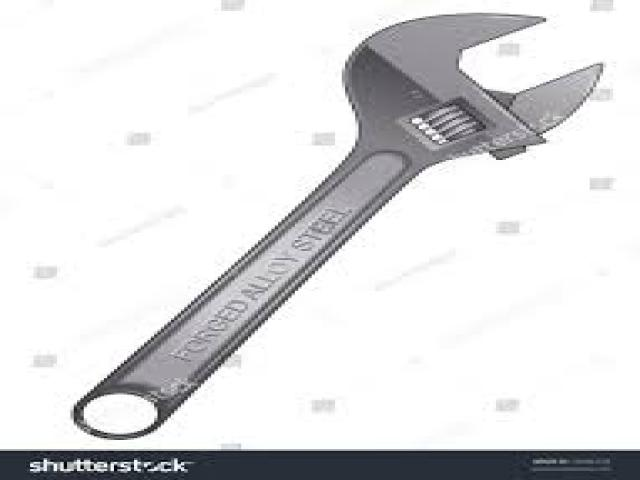Adjustable spanner: (74, 17, 600, 438)
